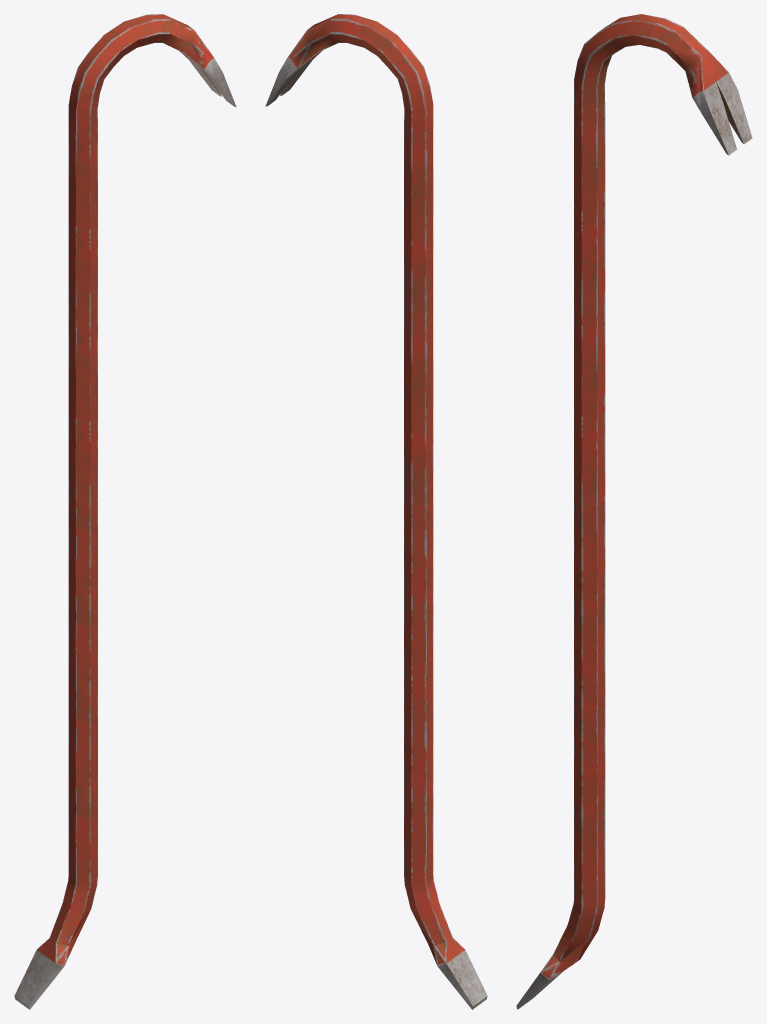
Rendered from Crowbar.fbx.
3 views of the same model, side by side, from view 1: azimuth 30°, elevation 25°; view 2: azimuth 150°, elevation 25°; view 3: azimuth 330°, elevation 25° (orthographic). The views are drawn at different scales.
Visible parts, largest first — view 1: Crowbar; view 2: Crowbar; view 3: Crowbar.
Boxes of the visible parts, bbox=[...] form: Crowbar: bbox=[14, 14, 236, 1009]; Crowbar: bbox=[265, 14, 487, 1009]; Crowbar: bbox=[516, 14, 752, 1009].
Bounding box in the file's own units: 13.54 × 60.67 × 3.05.
